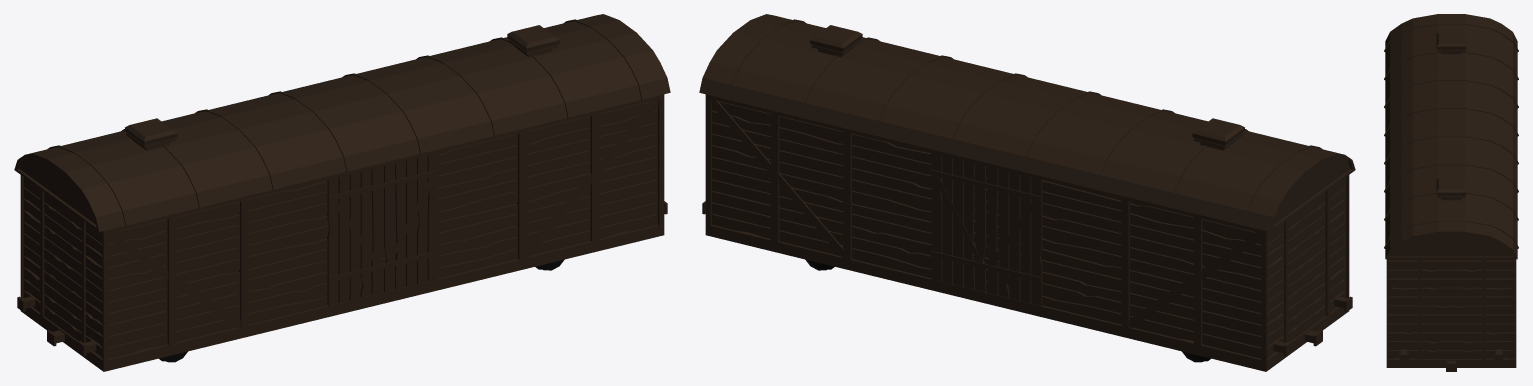
Rendered from locomotive_wagon.glb.
3 views of the same model, side by side, from view 1: azimuth 30°, elevation 25°; view 2: azimuth 150°, elevation 25°; view 3: azimuth 270°, elevation 25° (orthographic). The views are drawn at different scales.
Visible parts, largest first — view 1: Locomotive_Wagon_Cube.012; view 2: Locomotive_Wagon_Cube.012; view 3: Locomotive_Wagon_Cube.012.
Part boxes in pixels (left/top/right/bottom): Locomotive_Wagon_Cube.012: left=14, top=14, right=670, bottom=371; Locomotive_Wagon_Cube.012: left=699, top=14, right=1355, bottom=371; Locomotive_Wagon_Cube.012: left=1384, top=14, right=1518, bottom=371.
Bounding box in the file's own units: 8.06 × 2.95 × 2.07.
